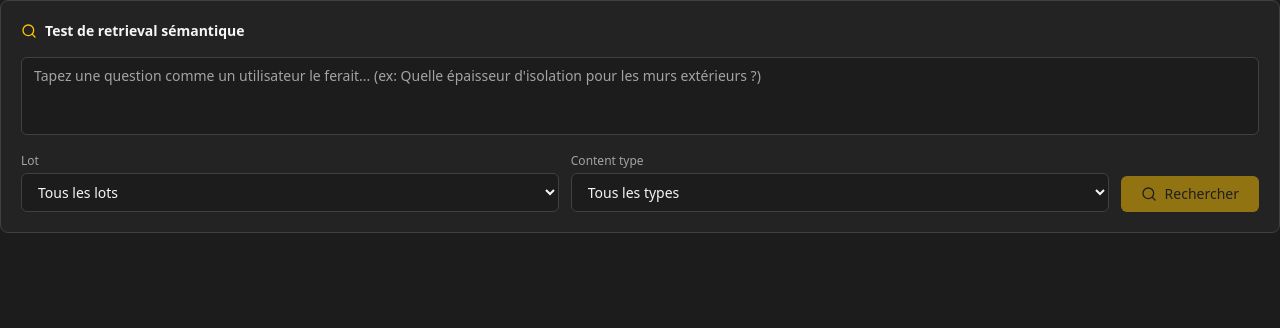
Test: RetrievalPlayground — a failed search leaves a trace on screen › renders the failure where the results would have appeared when the search failed
The width and height of the screenshot is (1280, 328).
Type "épaisseur isolation" into the text box. click: (640, 96)
box: [21, 57, 1259, 135]
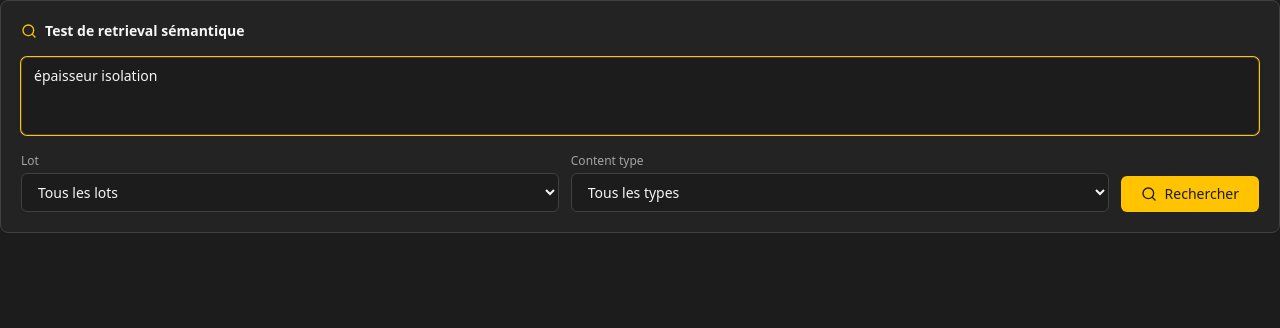
Click the button "Rechercher". click: (1190, 194)
box: [1121, 176, 1259, 212]
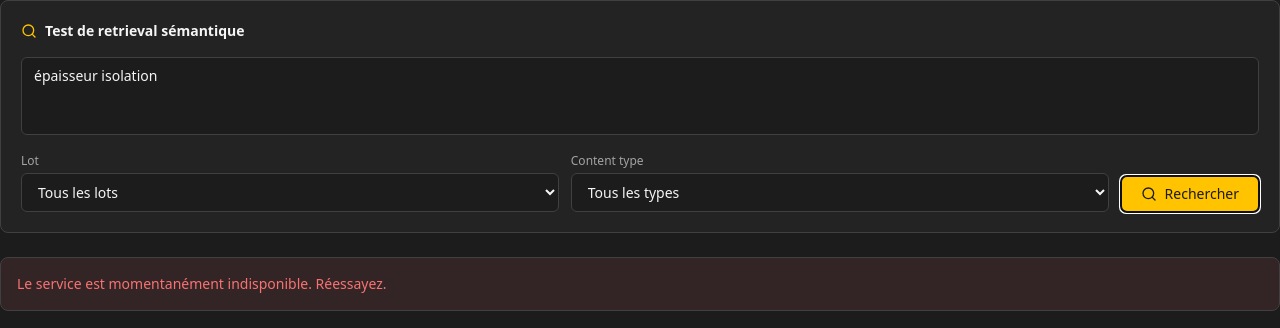
Check: the message reads "Le service est momentanément indisponible. Réessayez.", box [17, 274, 387, 293]
